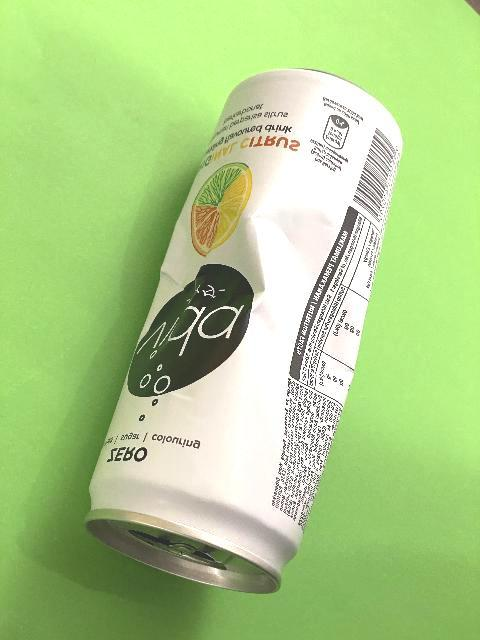drinkcan: (82, 67, 404, 598)
